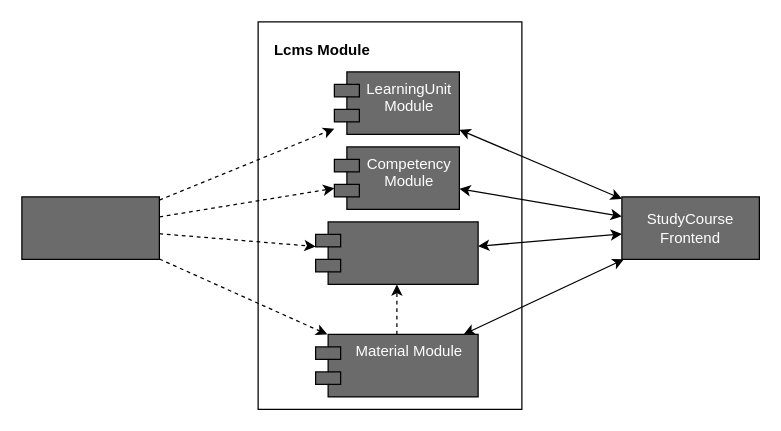
The diagram is 781 pixels wide and 431 high, and some of its shapes have lost their labels. Each missing label, with the centre of its shape:
LearningMaterial Module: the point at 396,252
shared/: the point at 90,227
